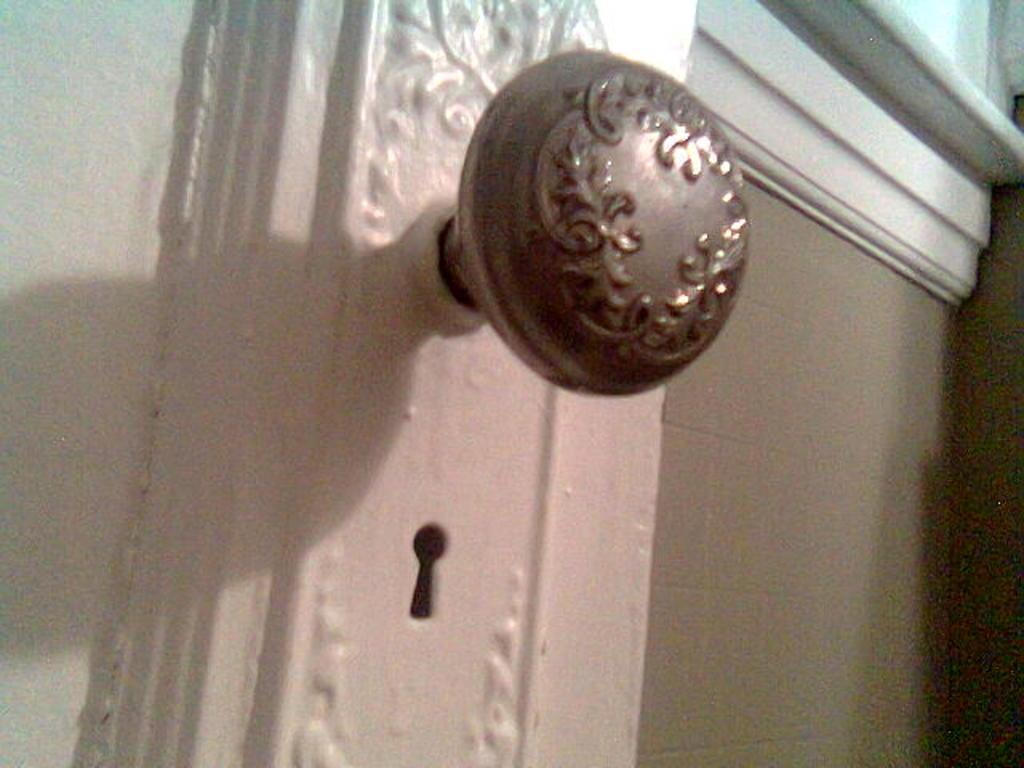handle: (436, 42, 759, 402)
